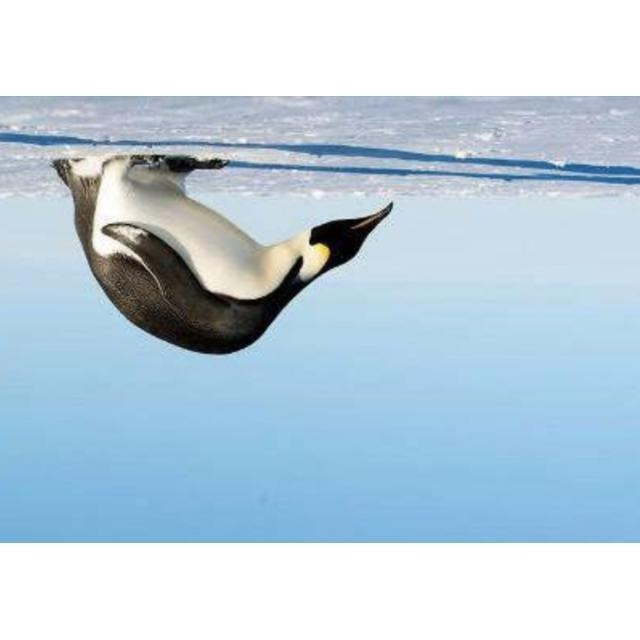penguin: (50, 153, 394, 355)
